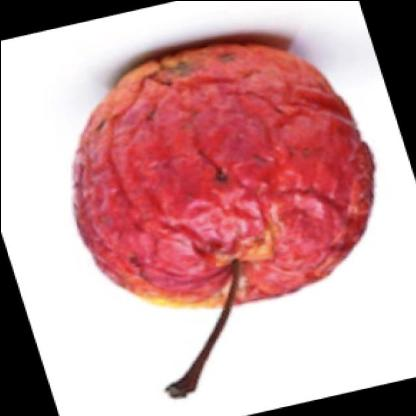defect: (67, 40, 373, 302)
